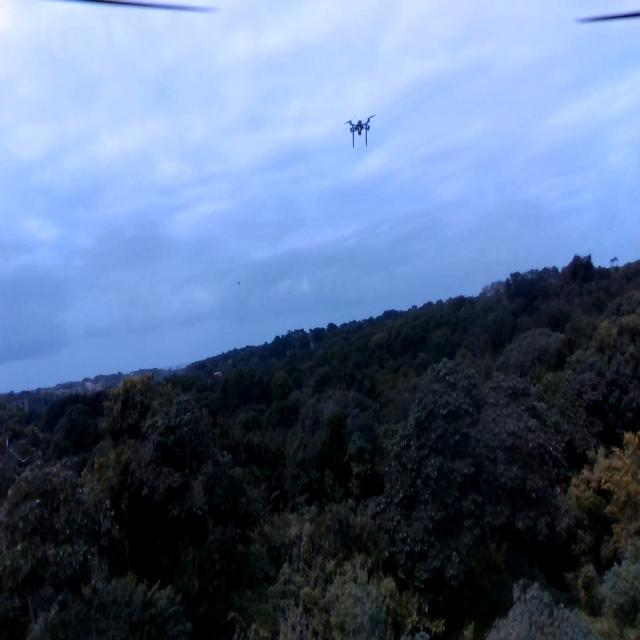-uav-: (338, 100, 382, 164)
